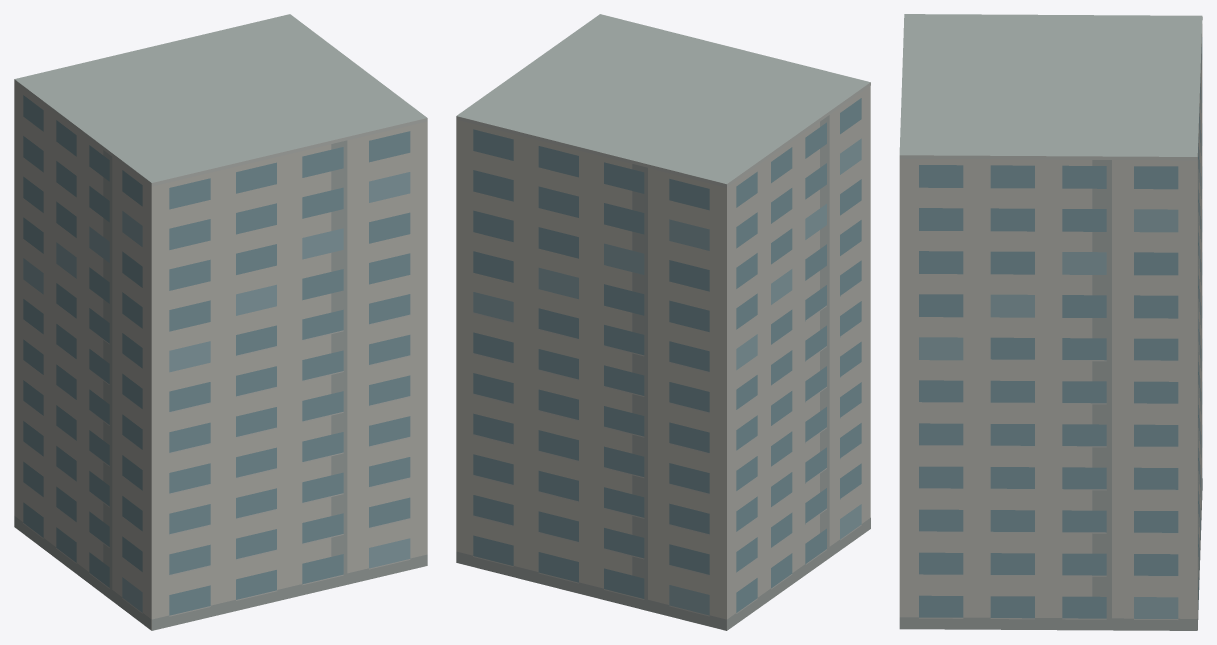
The model's file is residential-e7d6792f-8362-44e7-9d08-3842b65f8ec0.glb.
The picture shows the model from 3 angles, left to right: view 1: azimuth 30°, elevation 25°; view 2: azimuth 150°, elevation 25°; view 3: azimuth 270°, elevation 25°; orthographic projection. The views are drawn at different scales.
Parts seen in each view (by area): view 1: residential-e7d6792f-8362-44e7-9d08-3842b65f8ec0.tmp; view 2: residential-e7d6792f-8362-44e7-9d08-3842b65f8ec0.tmp; view 3: residential-e7d6792f-8362-44e7-9d08-3842b65f8ec0.tmp.
Part boxes in pixels (x1,y1,x2,y2): residential-e7d6792f-8362-44e7-9d08-3842b65f8ec0.tmp: [14, 14, 427, 630]; residential-e7d6792f-8362-44e7-9d08-3842b65f8ec0.tmp: [456, 14, 870, 630]; residential-e7d6792f-8362-44e7-9d08-3842b65f8ec0.tmp: [899, 14, 1202, 630].
Size of the model in its own units: 20.72 by 32 by 18.55.
